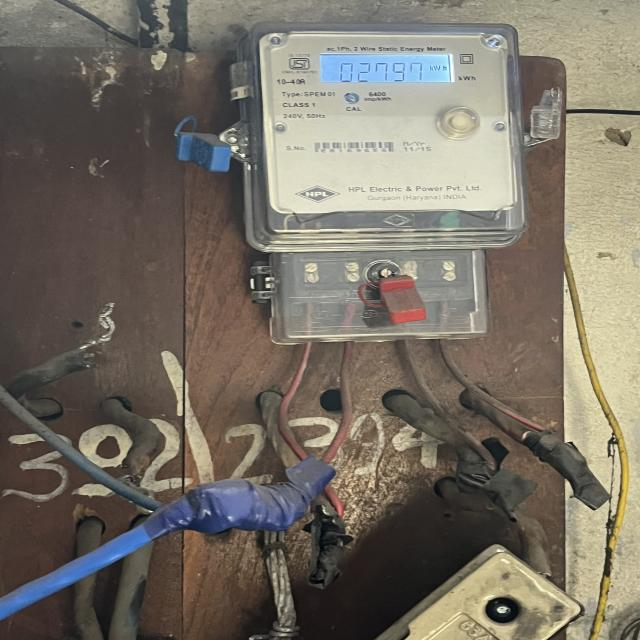display: (320, 52, 456, 90)
